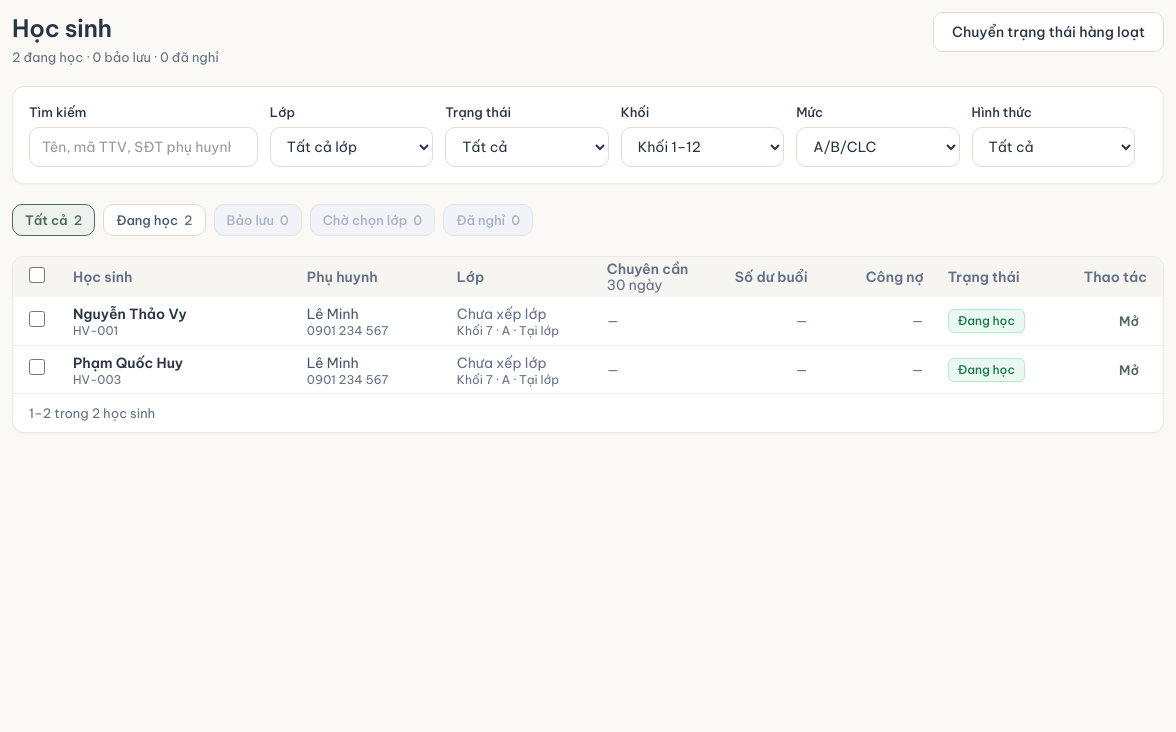
Test: Directory import entry points and bulk transition submit › selects every student on the page from the header checkbox and shows a mixed state after one is cleared
Click the checkbox named "Chọn tất cả trên trang": x=37, y=274 left=29, top=266, right=45, bottom=282
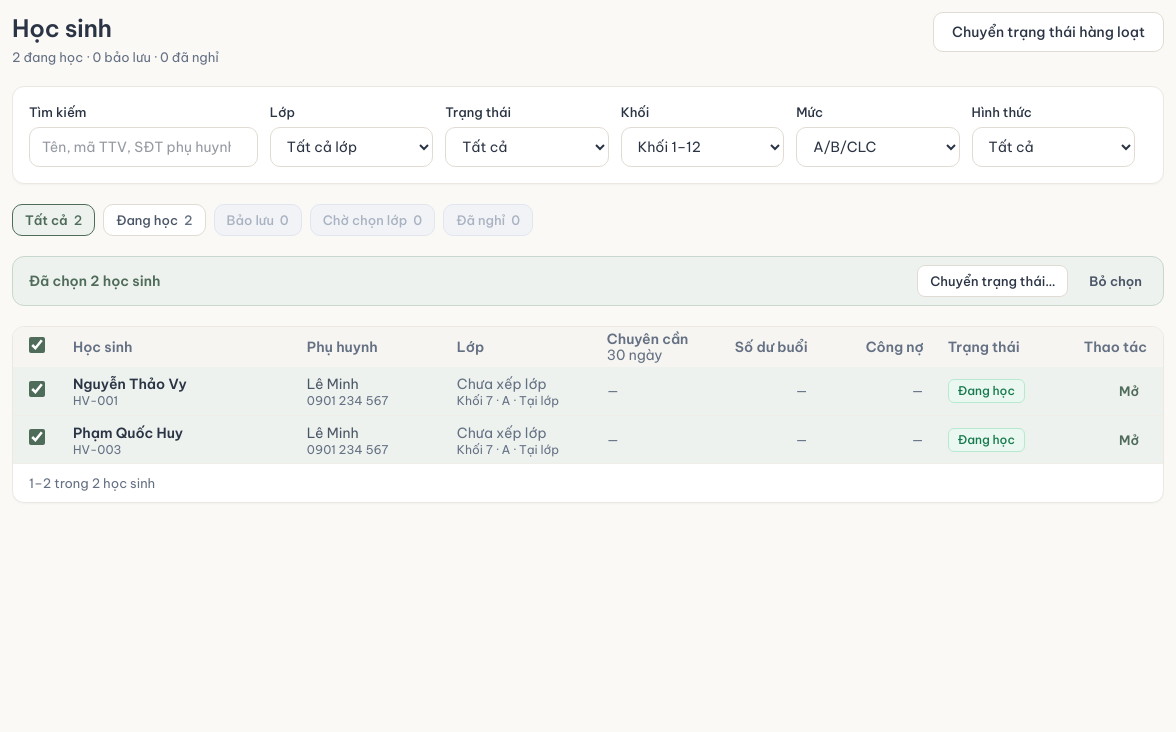
Check: the element "Đã chọn 2 học sinh" is shown, box left=12, top=256, right=1164, bottom=306
Click the checkbox named "Chọn Nguyễn Thảo Vy": x=37, y=388 left=29, top=380, right=45, bottom=396
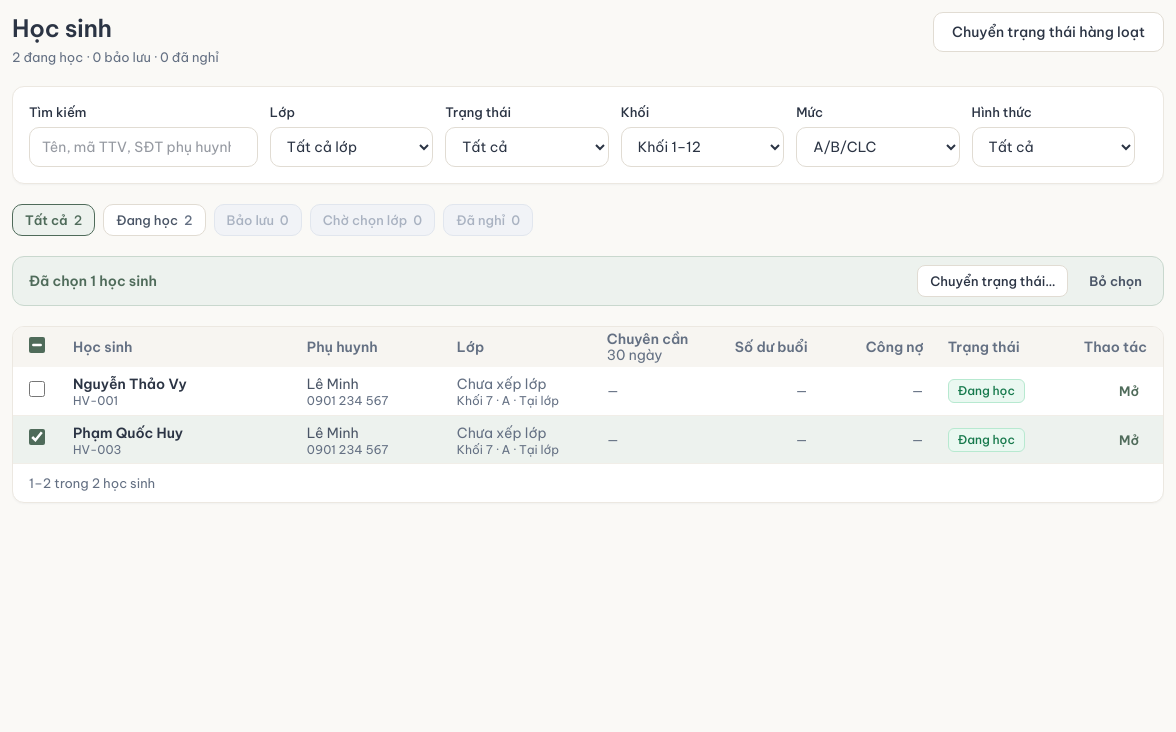
Check: the element "Đã chọn 1 học sinh" is shown, box left=12, top=256, right=1164, bottom=306
Click the checkbox named "Chọn tất cả trên trang": x=37, y=344 left=29, top=336, right=45, bottom=352
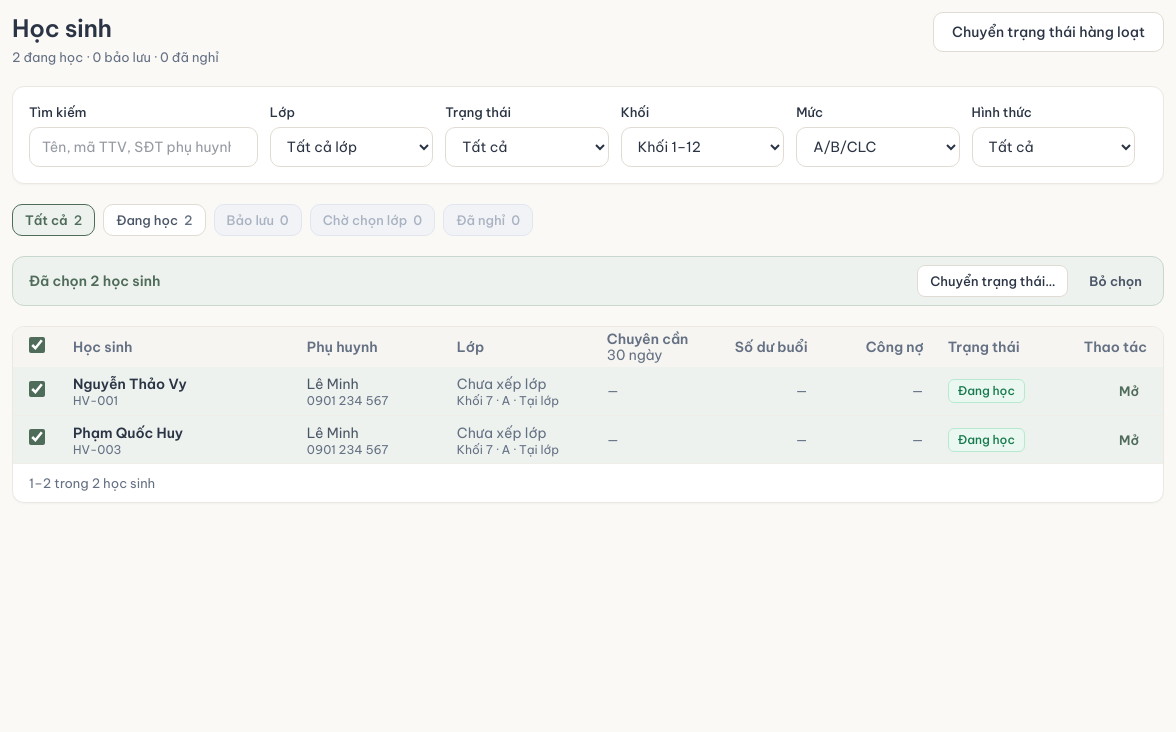
Check: the element "Đã chọn 2 học sinh" is shown, box left=12, top=256, right=1164, bottom=306
